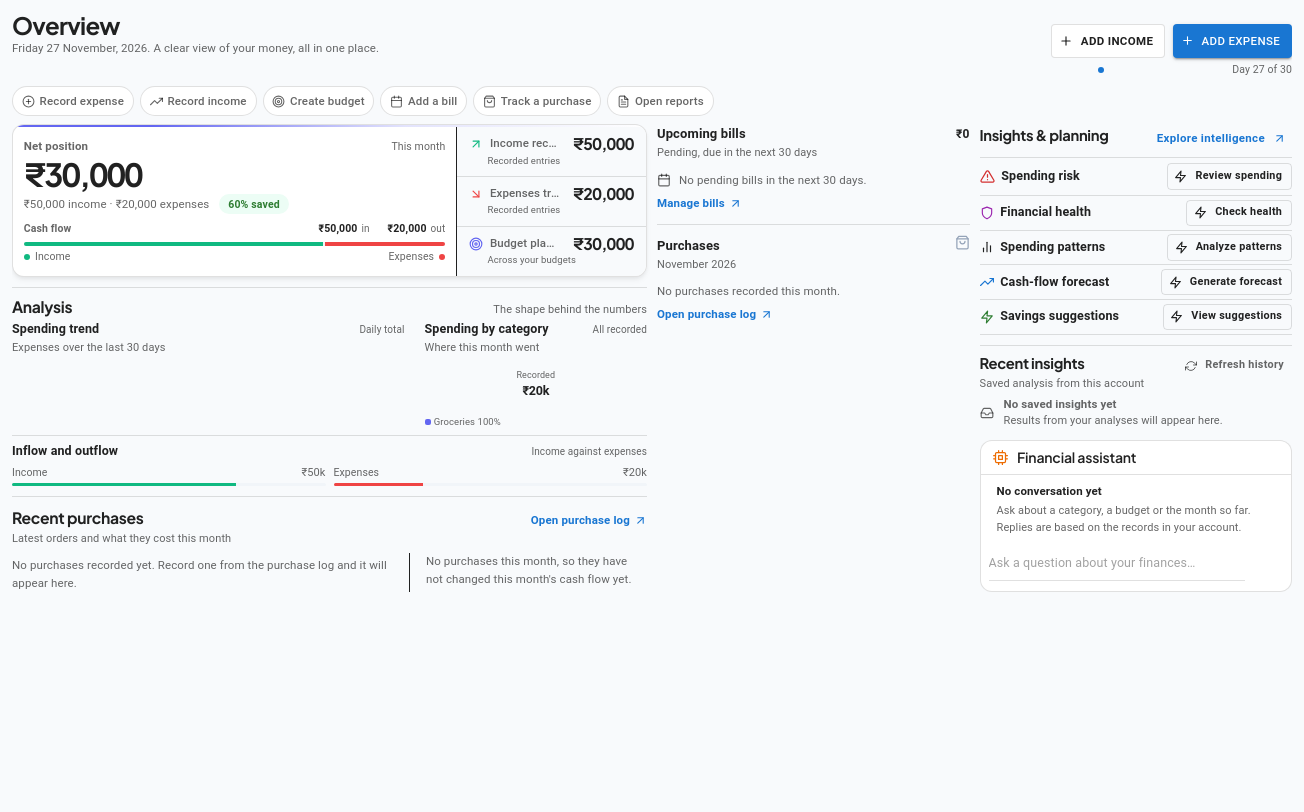
UserDashboard › loads insight history on demand
Expected: the text "No saved insights yet" is shown, [1004,397,1116,411]
Click the button "Refresh history" at (1236, 366), box [1179,352,1292,379]
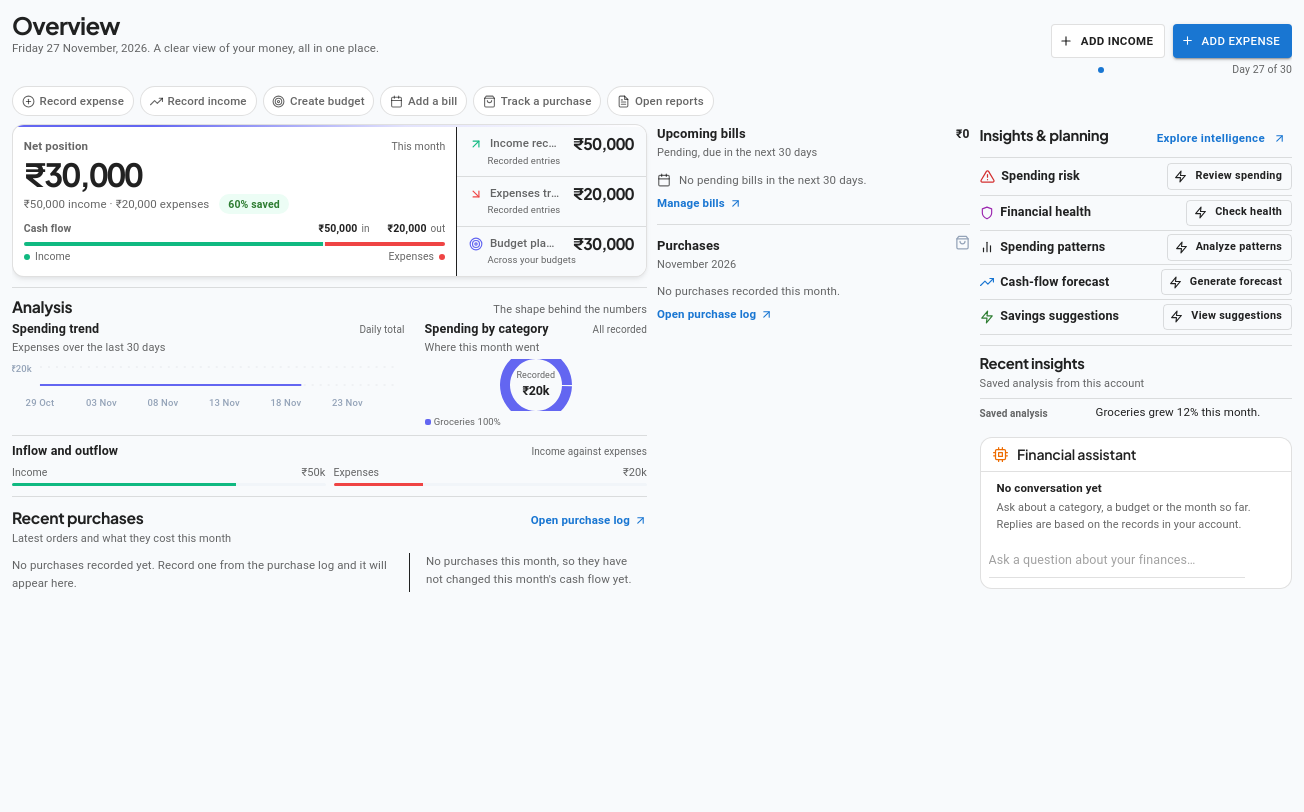
Result: the text "Groceries grew 12% this month." is shown at [1096,405,1260,419]
